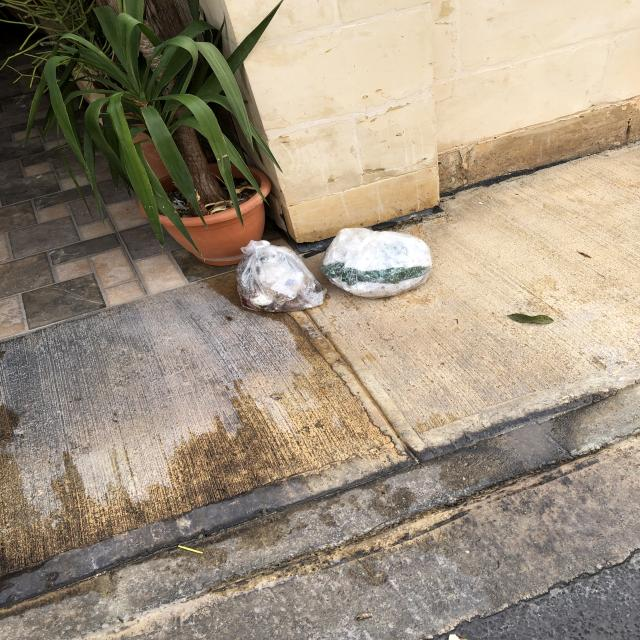Organic Waste -White Bag-: (321, 226, 437, 296), (232, 240, 332, 314)
